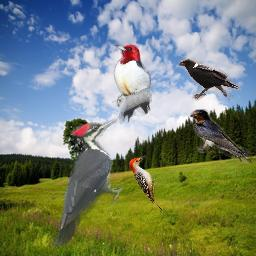Crow: (178, 58, 239, 101)
Swallow: (190, 109, 254, 164)
Woodpecker: (50, 116, 124, 246), (112, 44, 153, 126), (129, 155, 163, 212)
